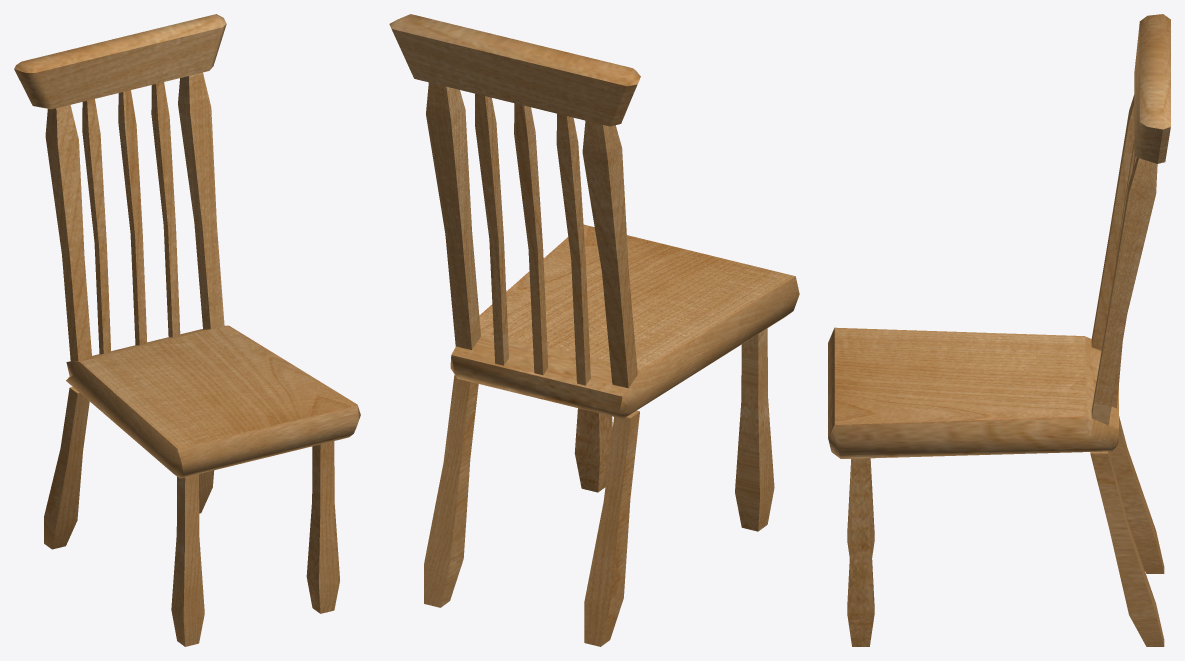
File: ChairI.fbx
The picture shows the model from 3 angles, left to right: view 1: azimuth 30°, elevation 25°; view 2: azimuth 150°, elevation 25°; view 3: azimuth 270°, elevation 25°; orthographic projection. The views are drawn at different scales.
Parts seen in each view (by area): view 1: ChairI; view 2: ChairI; view 3: ChairI.
Part boxes in pixels (box(x1,y1,x2,y2)): ChairI: box(14, 14, 360, 646); ChairI: box(389, 14, 799, 646); ChairI: box(828, 14, 1170, 646).
Size of the model in its own units: 0.6819 by 1.52 by 0.8726.
